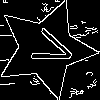V: (21, 24, 78, 72)
